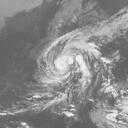cyclone: (35, 34, 104, 96)
